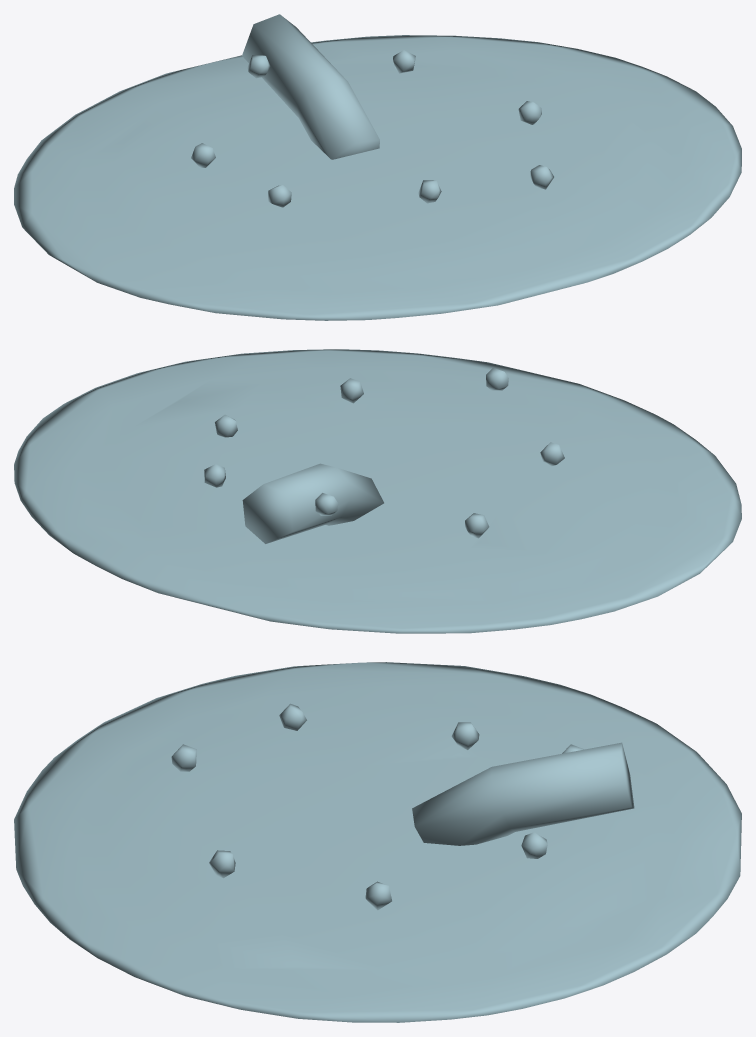
The model's file is nuoc_chay.glb.
3 views of the same model, one above another, from view 1: azimuth 30°, elevation 25°; view 2: azimuth 150°, elevation 25°; view 3: azimuth 270°, elevation 25° (orthographic). The views are drawn at different scales.
Visible parts, largest first — view 1: nuoc_chay; view 2: nuoc_chay; view 3: nuoc_chay.
Part boxes in pixels (x1=…): nuoc_chay: x1=14, y1=14, x2=741, y2=320; nuoc_chay: x1=14, y1=349, x2=741, y2=633; nuoc_chay: x1=14, y1=662, x2=741, y2=1022.
Bounding box in the file's own units: 0.6876 × 0.1058 × 0.5858.
